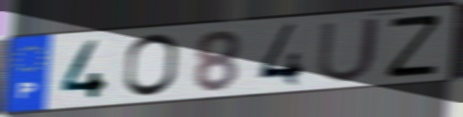4: (254, 20, 308, 89), (58, 37, 110, 103)
8: (194, 28, 244, 93)
O: (121, 32, 182, 100)
U: (314, 14, 384, 85)
Z: (384, 11, 443, 80)
